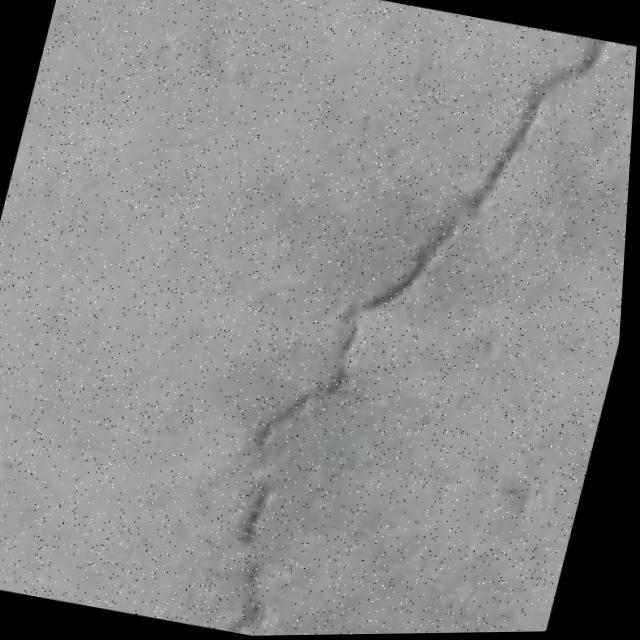Crack: (180, 0, 618, 638)
